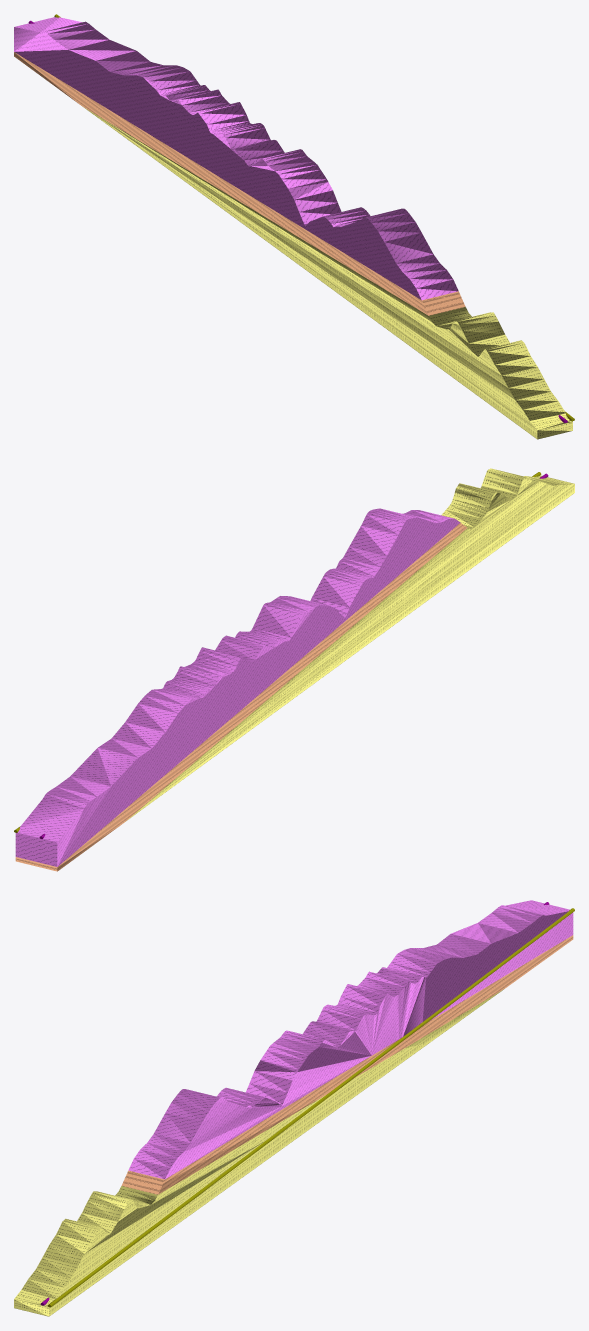
Rendered from mys1_Sec.obj.
3 views of the same model, one above another, from view 1: azimuth 30°, elevation 25°; view 2: azimuth 150°, elevation 25°; view 3: azimuth 330°, elevation 25° (orthographic).
Parts seen in each view (by area): view 1: 2, 0, 1; view 2: 2, 0, 1; view 3: 2, 0, 1, tunnel_right.
Part boxes in pixels (left/top/right/bottom): 2: left=14, top=17, right=458, bottom=300; 0: left=82, top=106, right=572, bottom=439; 1: left=14, top=52, right=465, bottom=315; 2: left=15, top=508, right=460, bottom=866; 0: left=125, top=468, right=574, bottom=821; 1: left=15, top=522, right=466, bottom=871; 2: left=128, top=900, right=573, bottom=1179; 0: left=14, top=989, right=503, bottom=1316; 1: left=121, top=935, right=573, bottom=1194; tunnel_right: left=47, top=908, right=574, bottom=1307.
Size of the model in its own units: 144 by 303 by 2968.
Materials: 6 (4 with a texture image).
